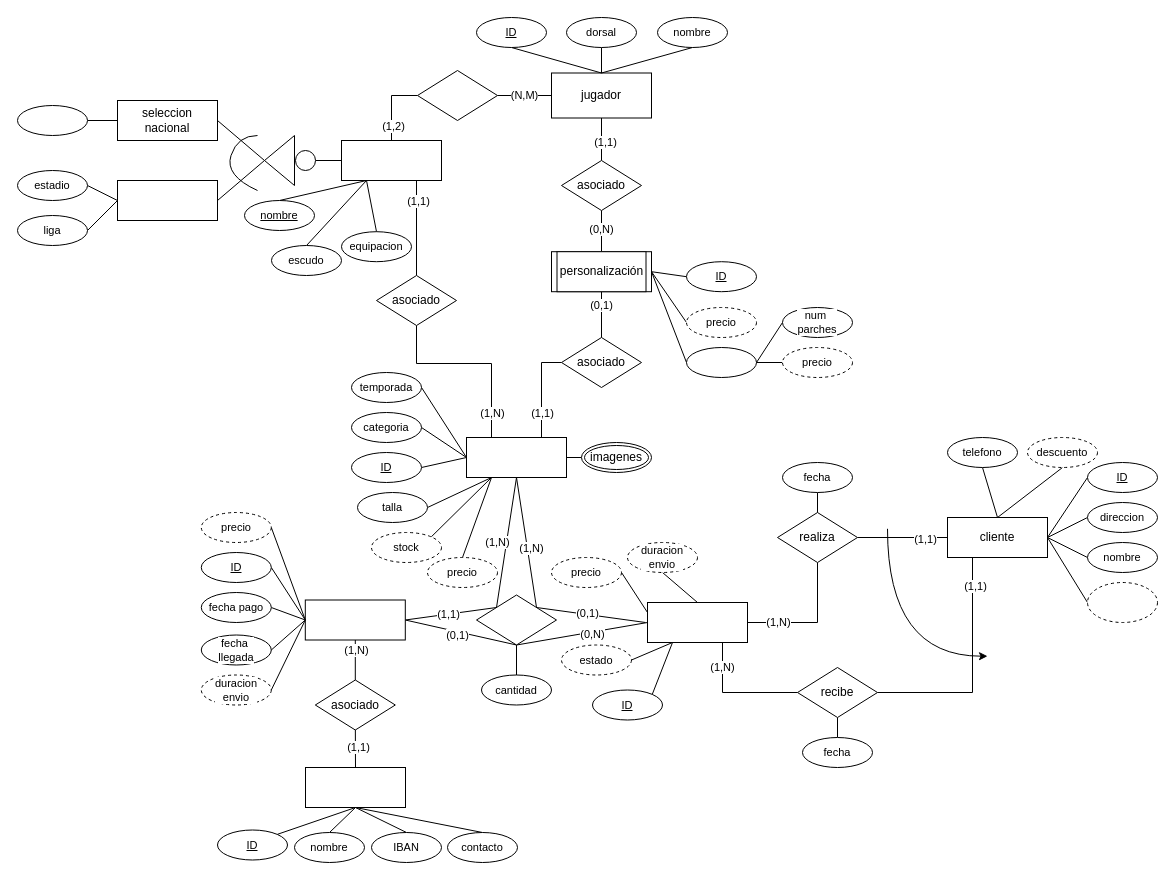
Some shapes in this 1175 by 880 pixel diagram are drawn without their labels. Here are the shapes that lost their labels. From the top down, the centre of each, then its label:
the point at 457,95: pertenece
the point at 52,120: ranking fifa
the point at 391,160: equipo
the point at 167,200: club
the point at 721,362: parches
the point at 516,457: camiseta
the point at 354,619: pedido distribuidor
the point at 516,619: contiene
the point at 697,622: pedido cliente
the point at 1122,602: num compras
the point at 355,787: distribuidor
